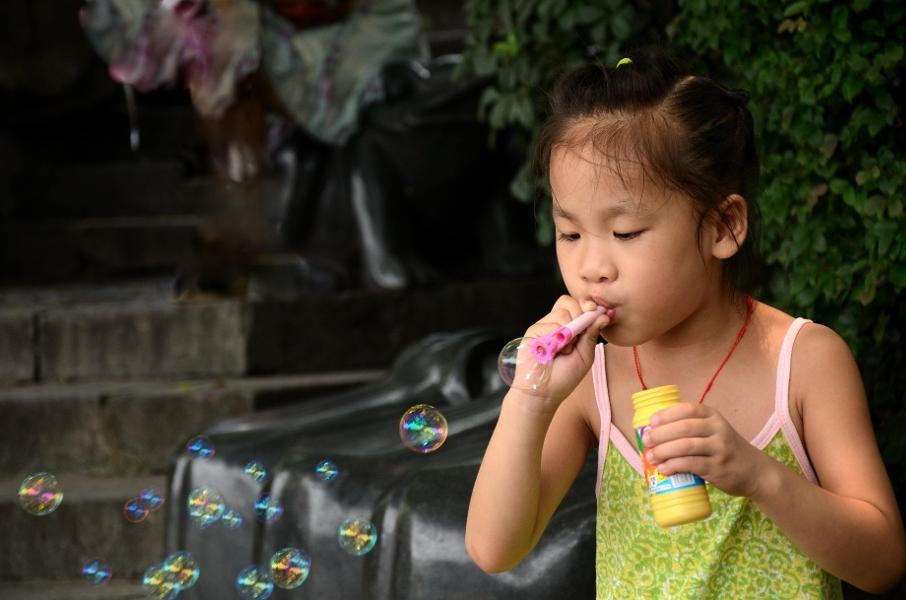person: (465, 50, 906, 600)
